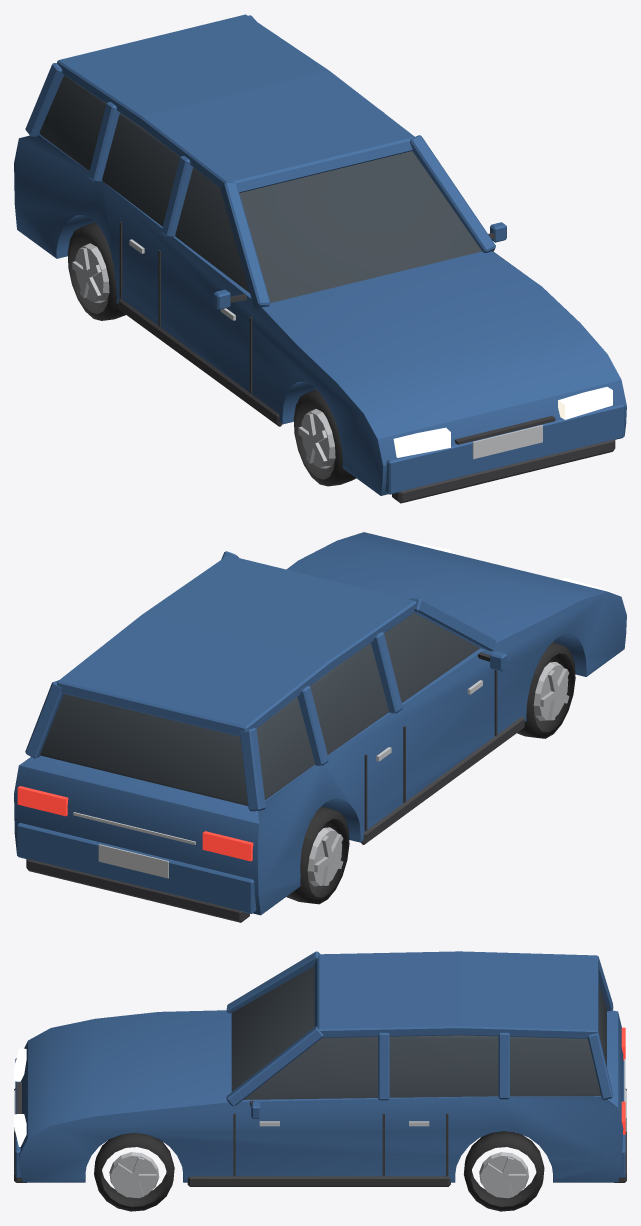
The model's file is car-blue.glb.
3 views of the same model, one above another, from view 1: azimuth 30°, elevation 25°; view 2: azimuth 150°, elevation 25°; view 3: azimuth 270°, elevation 25° (orthographic). The views are drawn at different scales.
Parts seen in each view (by area): view 1: car-blue; view 2: car-blue; view 3: car-blue.
Part boxes in pixels (x1,y1,x2,y2): car-blue: (14,14,626,503); car-blue: (14,532,626,922); car-blue: (14,951,626,1211).
Size of the model in its own units: 2.16 by 1.54 by 4.84.
